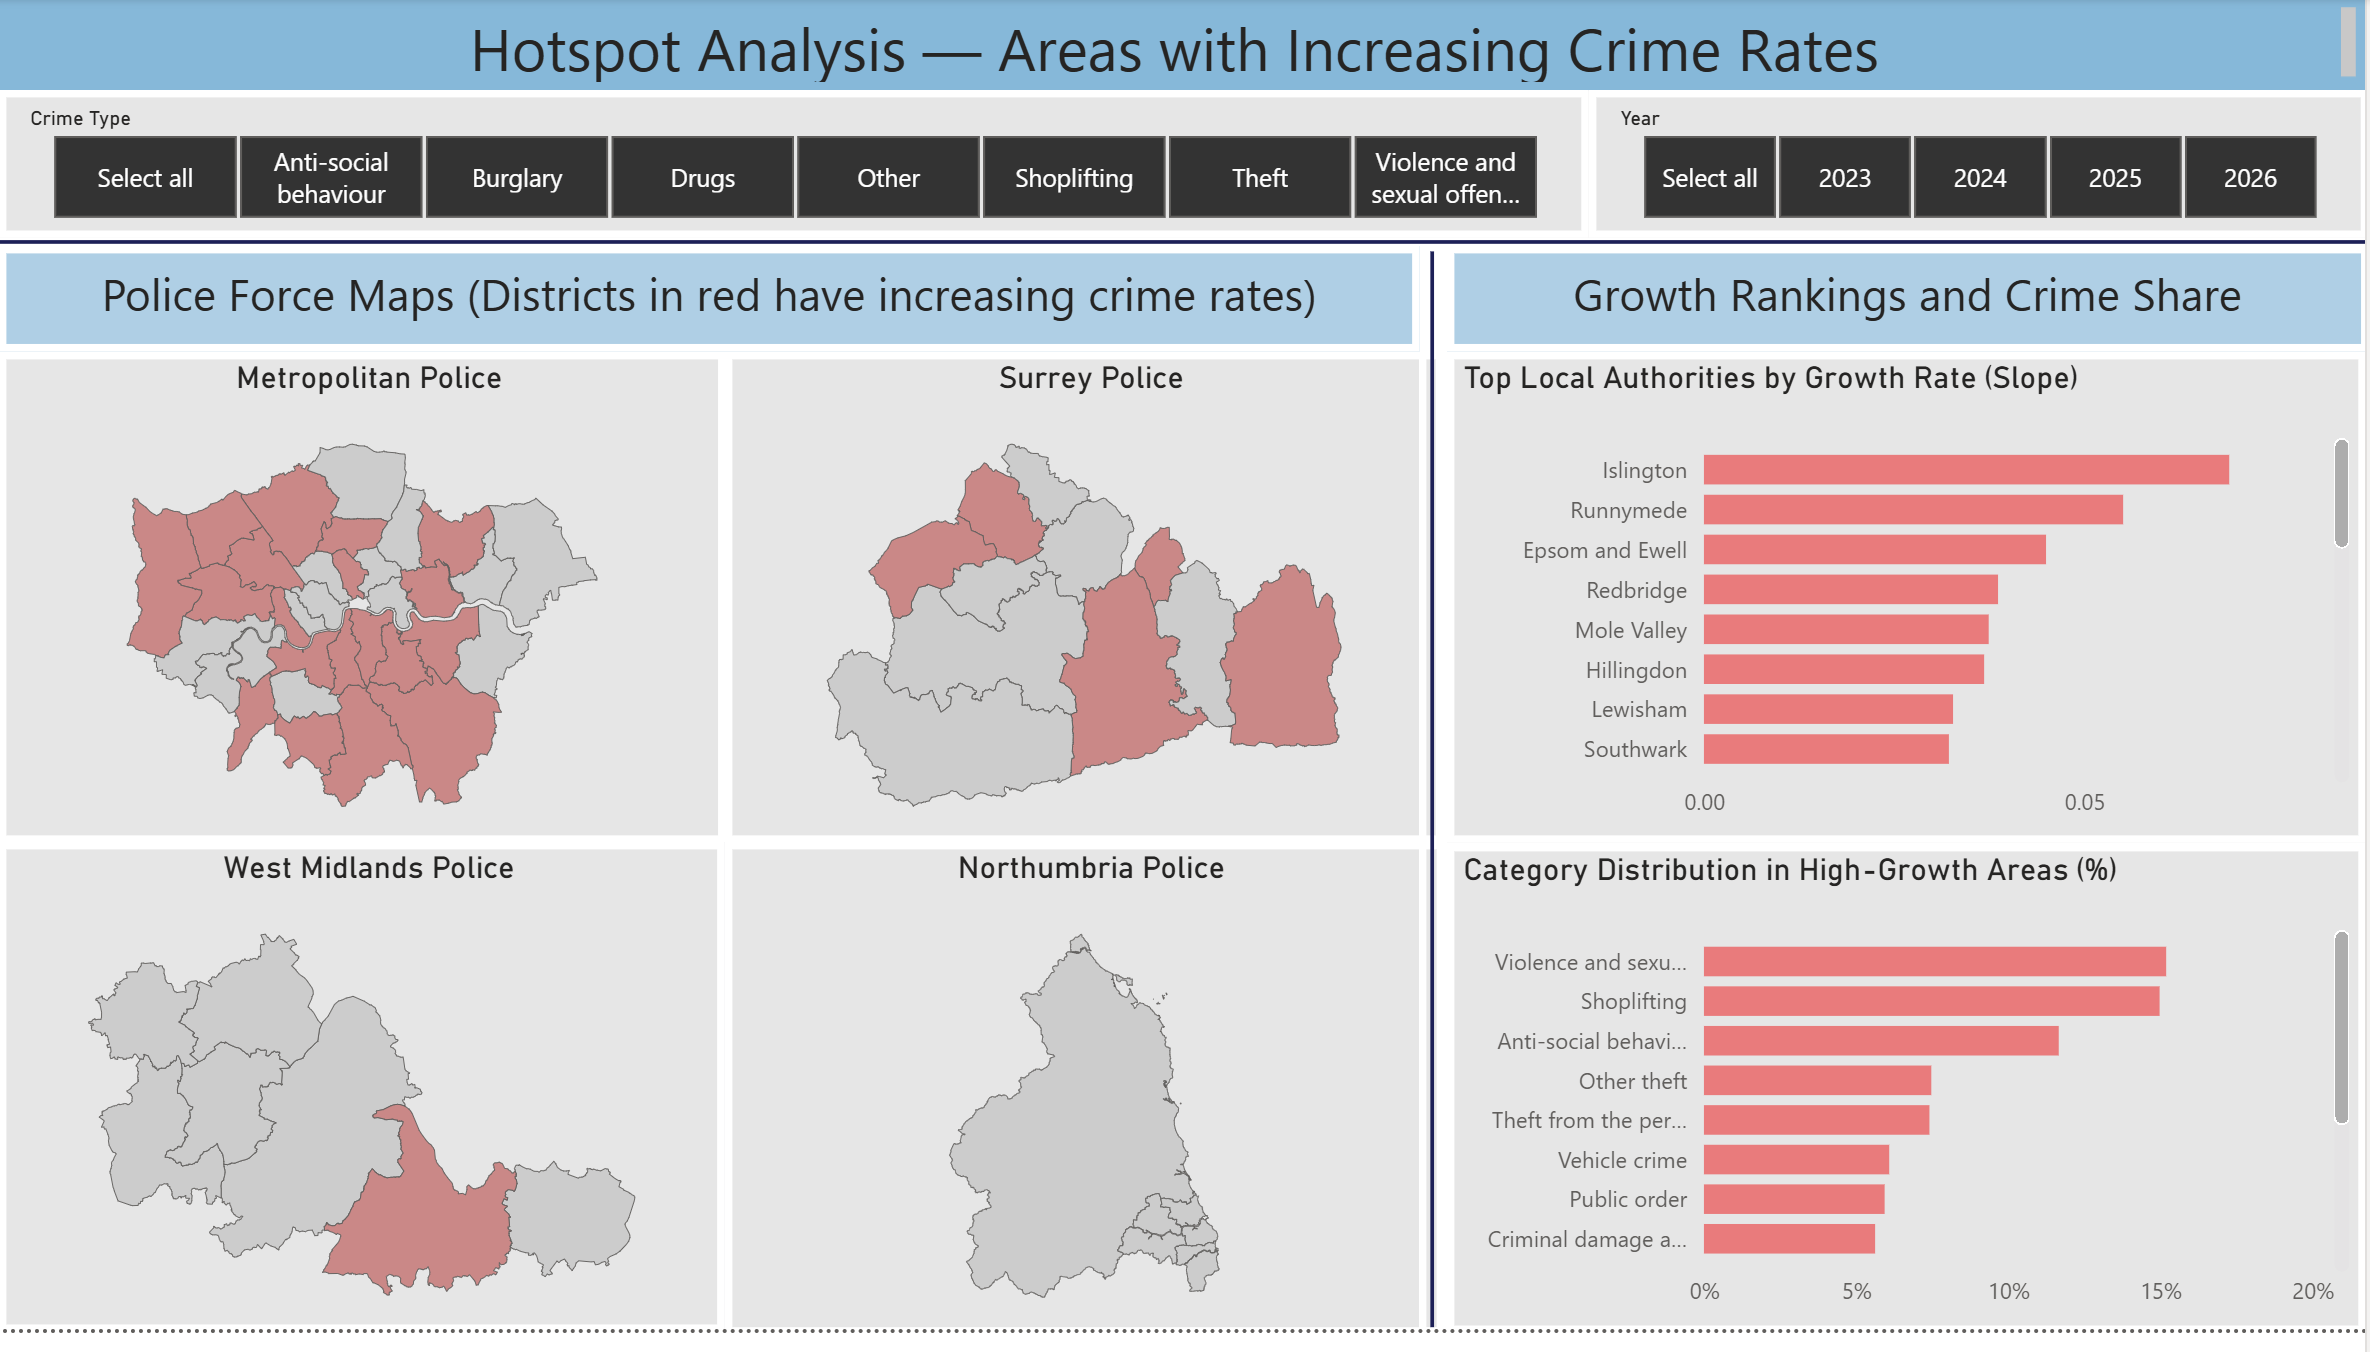

Layout of this report page (visuals, bound fields, positions):
{"tool":"powerbi","page":{"name":"Hotspot Analysis","canvas":[1280,720],"ordinal":1},"visuals":[{"type":"shapeMap","title":"Metropolitan Police","fields":{"Category":["LAD.LAD24CD"],"Value":["LAD.TrendFlag_Numeric"]},"box":[0,191.4,392.9,265.7],"z":0},{"type":"shapeMap","title":"Surrey Police ","fields":{"Category":["LAD.LAD24CD"],"Value":["LAD.TrendFlag_Numeric"]},"box":[392.9,191.4,388.6,265.7],"z":1000},{"type":"shapeMap","title":"West Midlands Police","fields":{"Category":["LAD.LAD24CD"],"Value":["LAD.TrendFlag_Numeric"]},"box":[0,456.2,392.5,265],"z":2000},{"type":"shapeMap","title":"Northumbria Police","fields":{"Category":["LAD.LAD24CD"],"Value":["LAD.TrendFlag_Numeric"]},"box":[392.5,456.2,388.8,266.2],"z":3000},{"type":"textbox","box":[0,0,1280,50],"z":4000},{"type":"barChart","title":"Top Local Authorities by Growth Rate (Slope)","fields":{"Category":["LAD.LAD24NM"],"Y":["LAD.RateSlope_Dynamic"]},"box":[782.9,191.4,497.1,265.7],"z":5000},{"type":"barChart","title":"Category Distribution in High-Growth Areas (%)","fields":{"Category":["LAD.Crime type"],"Y":["Sum(LAD.crime_rate_per_1000)"]},"box":[782.9,457.1,497.1,264.3],"z":6000},{"type":"slicer","fields":{"Values":["LAD.Crime type with other"]},"box":[0,50,860,80],"z":7000},{"type":"shape","box":[0,130,1280,4.3],"z":8000},{"type":"shape","box":[768.6,132.9,14.3,590],"z":9000},{"type":"textbox","box":[782.9,134.3,498.6,57.1],"z":10000},{"type":"slicer","fields":{"Values":["LAD.MonthStartDate.Variation.Date Hierarchy.Year"]},"box":[860,50,421.4,80],"z":11000},{"type":"textbox","box":[0,134.3,768.6,57.1],"z":12000}]}

Visuals, with their boxes in screenshot pixels (x1, y1, x2, y2), scaled from the page's 1280x720 canvas onto the 2370x1352 screenshot:
"Metropolitan Police" shapeMap: rect(0, 359, 727, 858)
"Surrey Police " shapeMap: rect(727, 359, 1447, 858)
"West Midlands Police" shapeMap: rect(0, 857, 727, 1351)
"Northumbria Police" shapeMap: rect(727, 857, 1447, 1351)
textbox: rect(0, 0, 2369, 94)
"Top Local Authorities by Growth Rate (Slope)" barChart: rect(1450, 359, 2369, 858)
"Category Distribution in High-Growth Areas (%)" barChart: rect(1450, 858, 2369, 1351)
slicer - LAD.Crime type with other: rect(0, 94, 1592, 244)
shape: rect(0, 244, 2369, 252)
shape: rect(1423, 250, 1450, 1351)
textbox: rect(1450, 252, 2369, 359)
slicer - LAD.MonthStartDate.Variation.Date Hierarchy.Year: rect(1592, 94, 2369, 244)
textbox: rect(0, 252, 1423, 359)
